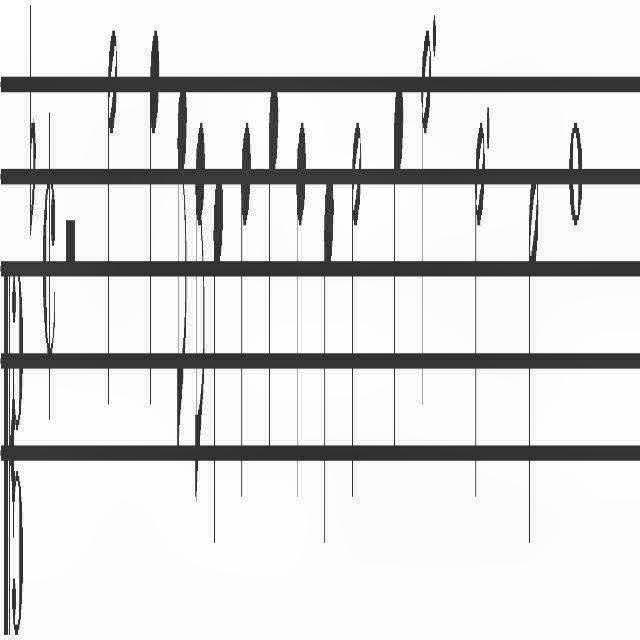Bemol: (28, 8, 36, 244)
Eighth-note: (176, 71, 188, 469), (194, 118, 206, 516)
Full-note: (568, 119, 582, 225)
Half-note: (106, 11, 118, 416), (473, 118, 485, 504), (351, 118, 362, 512), (421, 23, 431, 421), (528, 169, 538, 547)
Quarter-note: (148, 23, 160, 433), (240, 107, 252, 505), (392, 71, 404, 469), (295, 114, 307, 508), (322, 165, 334, 551), (212, 169, 224, 547), (268, 71, 278, 465)
